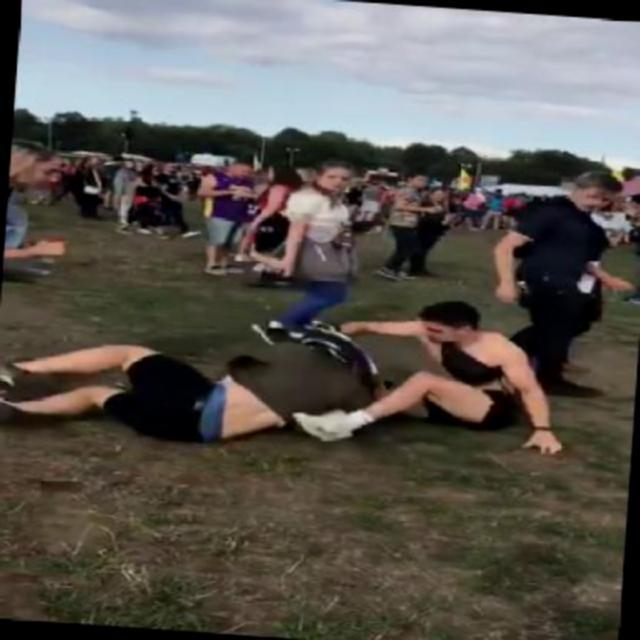fight: (0, 268, 568, 468)
